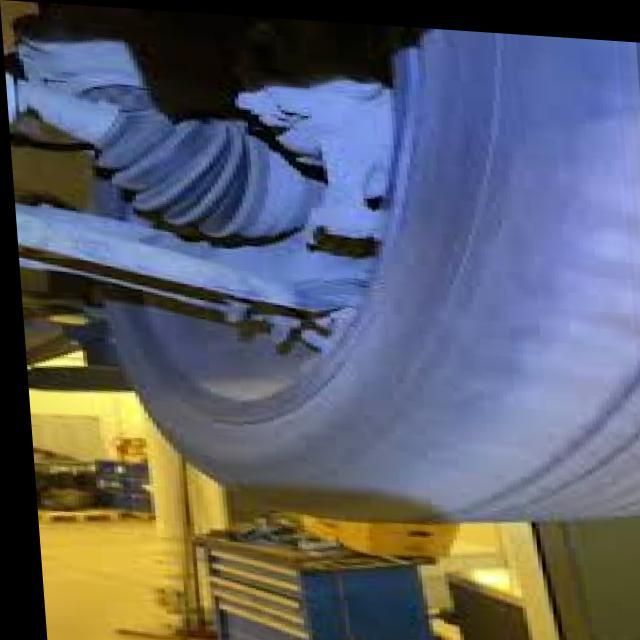Flat spots: (424, 36, 639, 514), (334, 322, 418, 509)
